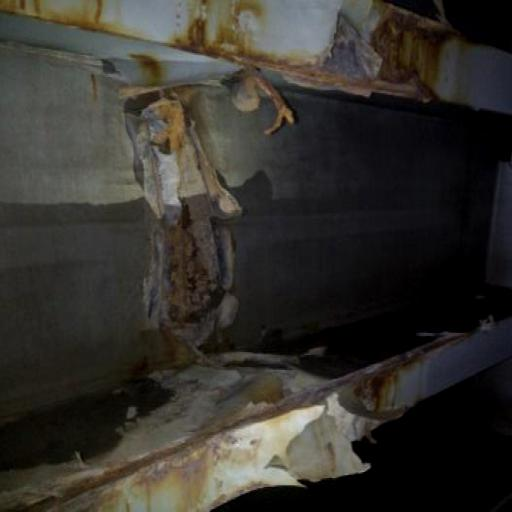Detect-rust-on-metal-surfaces: (1, 8, 468, 511)
